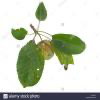Apple Scab Leaf: (16, 41, 45, 91), (52, 31, 89, 56)
